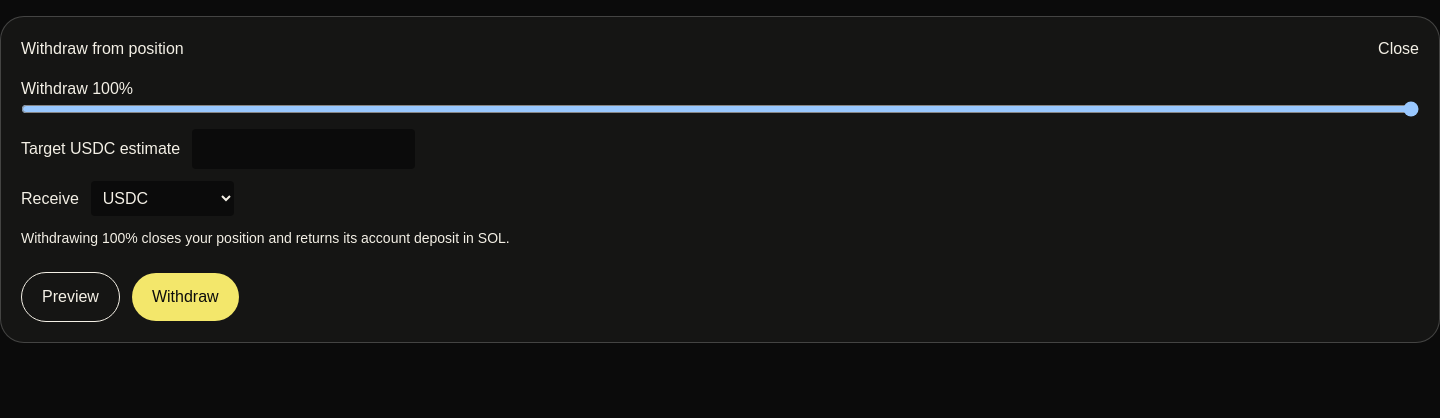
Test case: shows a readable error when the server returns a non-JSON page
Click the button "Preview" at (70, 297), box [21, 272, 120, 322]
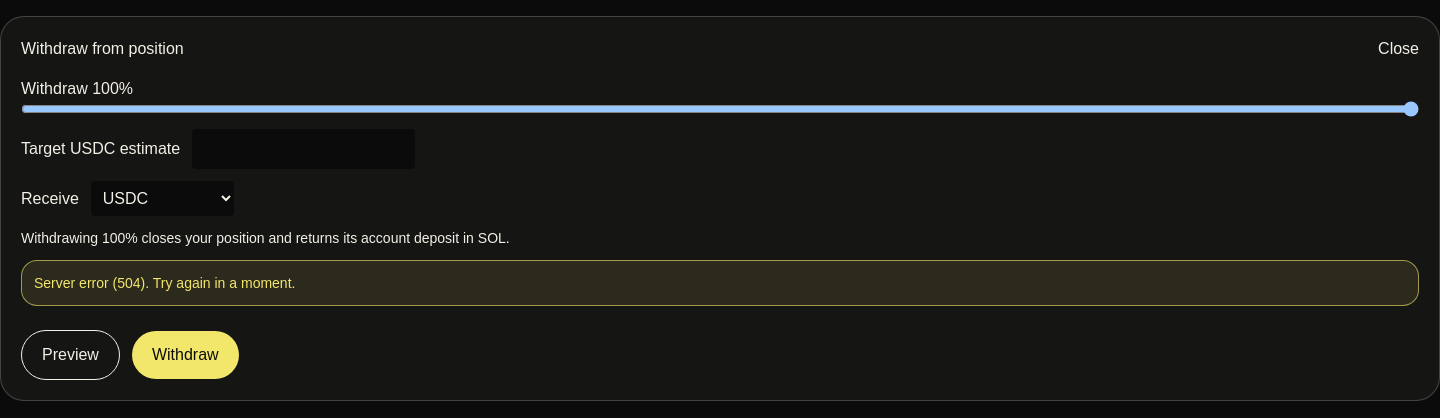
Now the message "Server error (504). Try again in a moment." is shown, box [21, 260, 1419, 306]
